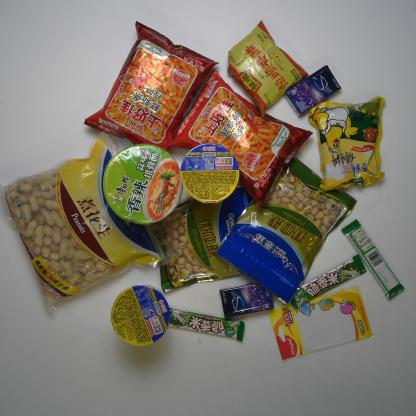Chocolate: (340, 218, 406, 302), (287, 254, 368, 310), (159, 303, 247, 343)
Dried Food: (2, 132, 174, 315)
Dried Fruit: (202, 147, 359, 304), (140, 173, 284, 294)
Gum: (282, 63, 342, 118), (217, 278, 272, 319)
Instant Noodles: (100, 142, 188, 228), (108, 281, 173, 352), (178, 141, 242, 207)
Puffed Food: (167, 67, 315, 208), (79, 17, 221, 159)
Seasoner: (224, 16, 310, 117), (306, 95, 386, 198)
Stationery: (266, 284, 374, 364)
